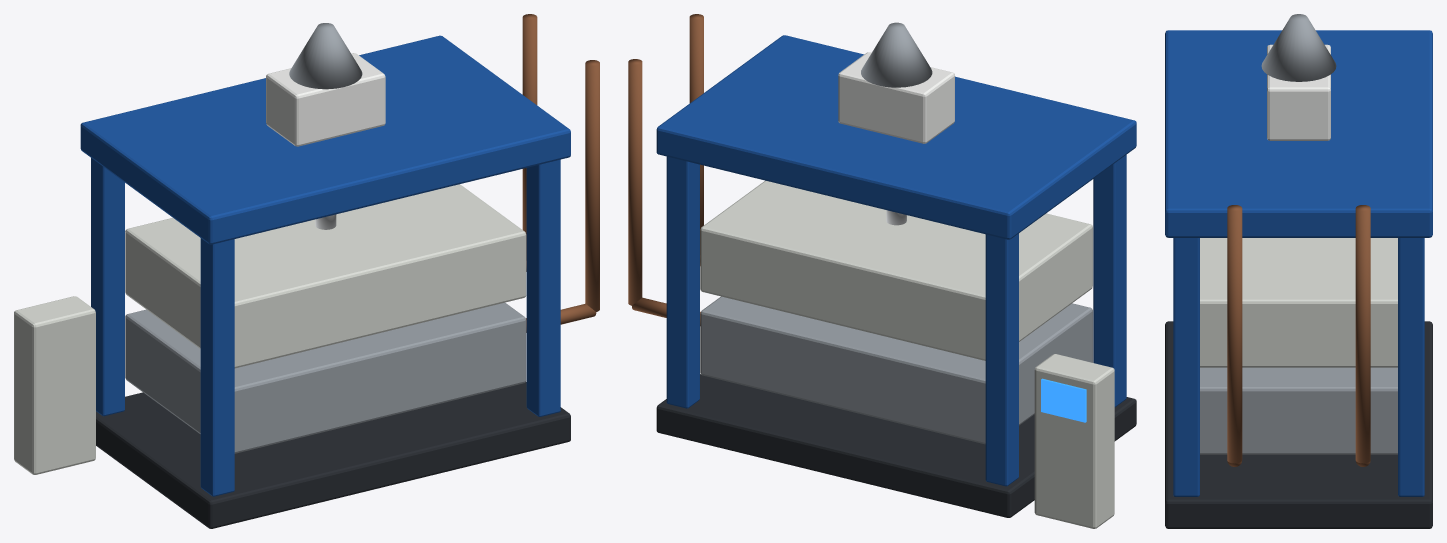
The model's file is eps_machine.glb.
3 renders of one model, left to right at view 1: azimuth 30°, elevation 25°; view 2: azimuth 150°, elevation 25°; view 3: azimuth 270°, elevation 25°, orthographic. The views are drawn at different scales.
Visible parts, largest first — view 1: eps_machine; view 2: eps_machine; view 3: eps_machine.
Part boxes in pixels (x1,y1,x2,y2): eps_machine: (14, 14, 599, 528); eps_machine: (628, 14, 1136, 528); eps_machine: (1165, 14, 1432, 528).
Bounding box in the file's own units: 5.52 × 4.35 × 2.5.
